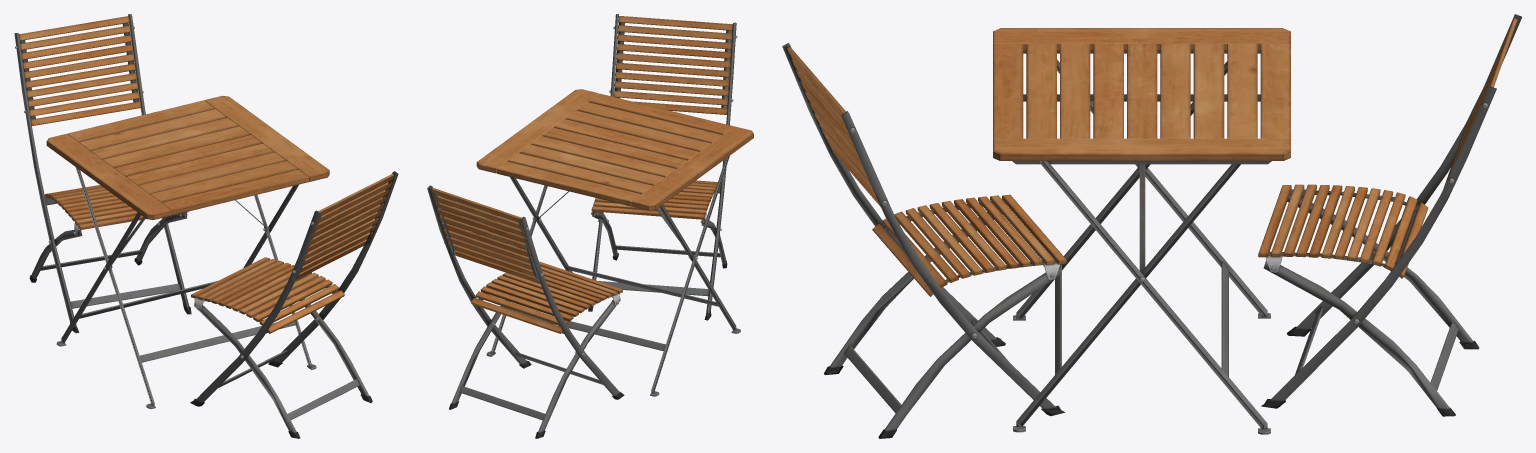
File: outdoor_table_chair_set_01.glb
3 renders of one model, left to right at view 1: azimuth 30°, elevation 25°; view 2: azimuth 150°, elevation 25°; view 3: azimuth 270°, elevation 25°, orthographic. The views are drawn at different scales.
Visible parts, largest first — view 1: outdoor_table_chair_set_01_chair_01, outdoor_table_chair_set_01_table; view 2: outdoor_table_chair_set_01_chair_01, outdoor_table_chair_set_01_table; view 3: outdoor_table_chair_set_01_table, outdoor_table_chair_set_01_chair_01.
Part boxes in pixels (left/top/right/bottom): outdoor_table_chair_set_01_chair_01: left=14, top=14, right=398, bottom=438; outdoor_table_chair_set_01_table: left=46, top=95, right=329, bottom=408; outdoor_table_chair_set_01_chair_01: left=427, top=14, right=737, bottom=438; outdoor_table_chair_set_01_table: left=476, top=89, right=753, bottom=396; outdoor_table_chair_set_01_table: left=993, top=28, right=1290, bottom=434; outdoor_table_chair_set_01_chair_01: left=782, top=14, right=1521, bottom=438.
Bounding box in the file's own units: 0.7416 × 0.8576 × 1.72.
Materials: 2 (2 with a texture image).
